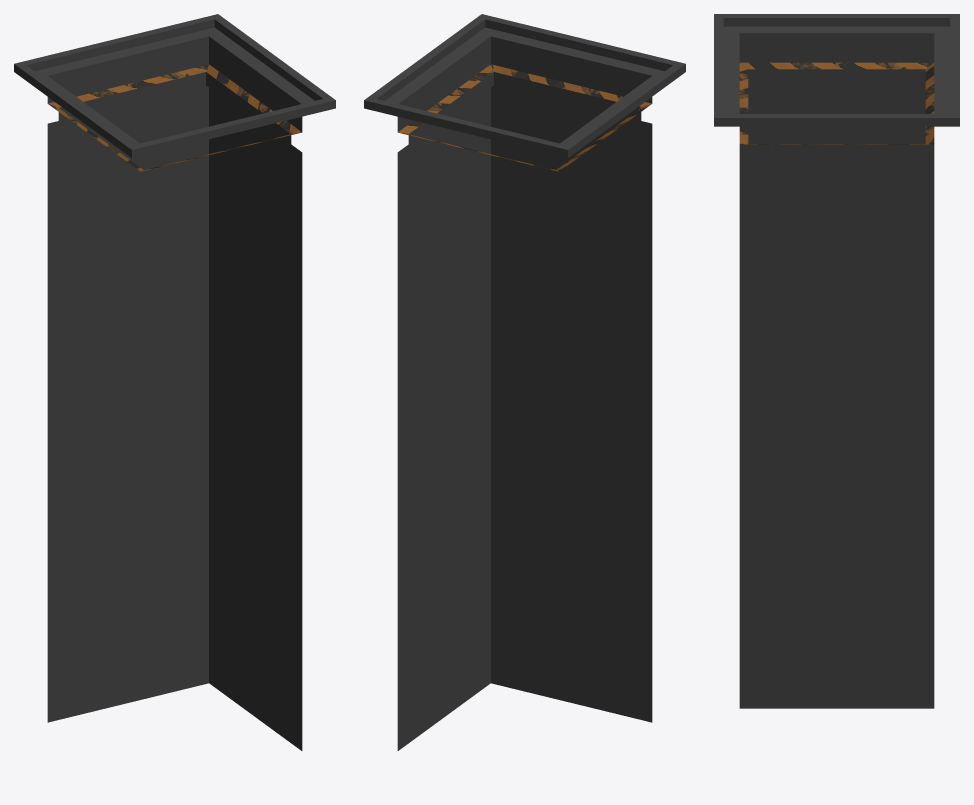
File: hole.glb
3 renders of one model, left to right at view 1: azimuth 30°, elevation 25°; view 2: azimuth 150°, elevation 25°; view 3: azimuth 270°, elevation 25°, orthographic. The views are drawn at different scales.
Parts seen in each view (by area): view 1: hole; view 2: hole; view 3: hole.
Part boxes in pixels (box(x1,y1,x2,y2)): hole: box(14, 14, 335, 750); hole: box(364, 14, 685, 750); hole: box(714, 14, 959, 708).
Bounding box in the file's own units: 100 × 307 × 100.
1 material, 1 textured.
